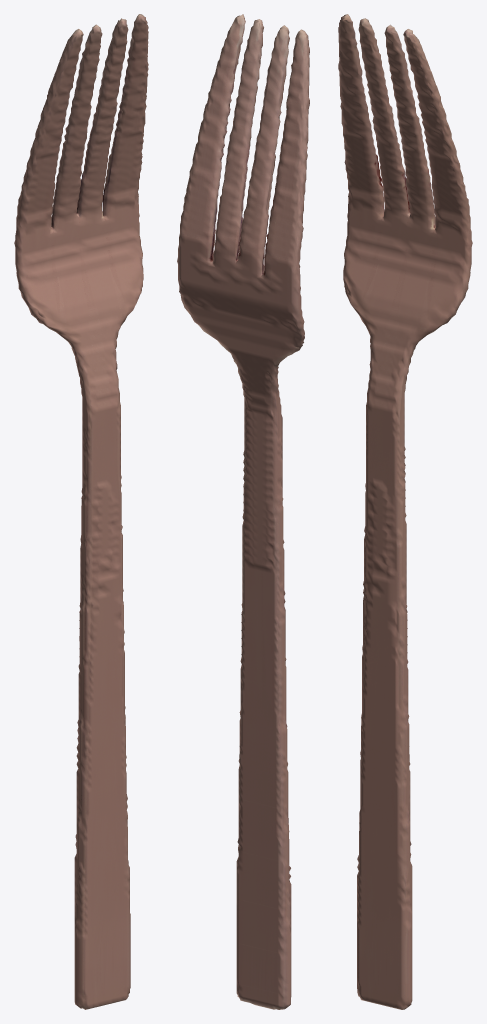
File: Copper_App_Fork_0701033456_texture.glb
The picture shows the model from 3 angles, left to right: view 1: azimuth 30°, elevation 25°; view 2: azimuth 150°, elevation 25°; view 3: azimuth 330°, elevation 25°; orthographic projection.
Parts seen in each view (by area): view 1: Mesh_0.001; view 2: Mesh_0.001; view 3: Mesh_0.001.
Part boxes in pixels (box(x1,y1,x2,y2)): Mesh_0.001: box(14, 14, 148, 1009); Mesh_0.001: box(177, 14, 309, 1009); Mesh_0.001: box(338, 14, 472, 1009).
Bounding box in the file's own units: 0.0155 × 0.12 × 0.00862.
1 material, 1 textured.
